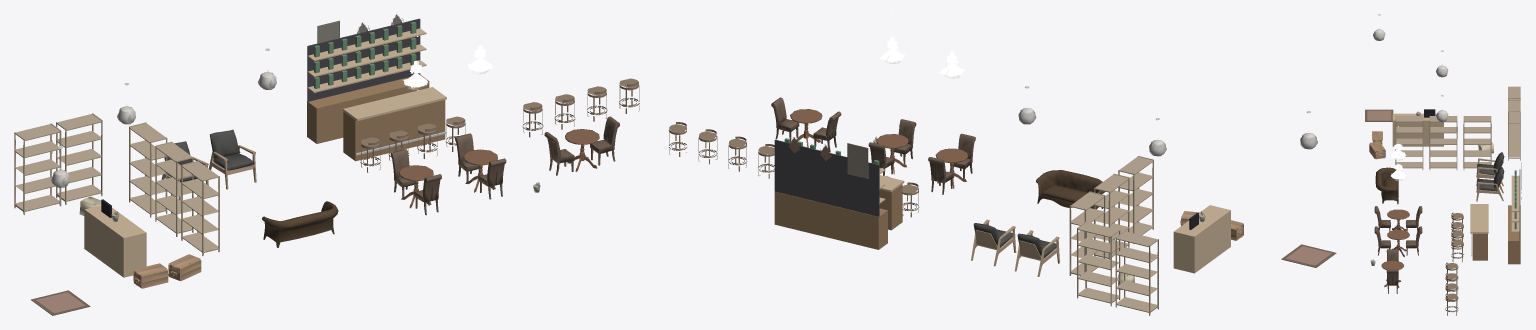
The model's file is fine-s0.glb.
3 views of the same model, side by side, from view 1: azimuth 30°, elevation 25°; view 2: azimuth 150°, elevation 25°; view 3: azimuth 270°, elevation 25° (orthographic). The views are drawn at different scales.
Parts seen in each view (by area): view 1: back-bar.000, bar-counter.000, shop-counter.000, shelving.000, shelving.001, shelving.004, shelving.002, shelving.003, sofa.000, office-chair-real.001, soft-s0, crate.000 (+10 smaller); view 2: back-bar.000, shop-counter.000, shelving.000, shelving.001, shelving.004, sofa.000, shelving.003, shelving.002, office-chair-real.000, office-chair-real.001, bar-counter.000, soft-s0 (+9 smaller); view 3: back-bar.000, shelving.003, shop-counter.000, bar-counter.000, shelving.002, shelving.004, shelving.001, sofa.000, office-chair-real.001, office-chair-real.000, soft-s0, cafe-table.001 (+21 smaller).
Part boxes in pixels (x1,y1,x2,y2): back-bar.000: (307, 18, 429, 143); bar-counter.000: (343, 87, 446, 161); shop-counter.000: (84, 199, 146, 277); shelving.000: (14, 123, 61, 215); shelving.001: (56, 113, 102, 204); shelving.004: (181, 160, 219, 255); shelving.002: (129, 122, 167, 217); shelving.003: (155, 141, 193, 236); sofa.000: (262, 201, 338, 247); office-chair-real.001: (209, 129, 256, 189); soft-s0: (31, 290, 90, 315); crate.000: (133, 263, 168, 288); back-bar.000: (774, 138, 887, 249); shop-counter.000: (1173, 205, 1230, 273); shelving.000: (1115, 231, 1158, 315); shelving.001: (1077, 221, 1120, 306); shelving.004: (1118, 156, 1153, 243); sofa.000: (1036, 170, 1105, 209); shelving.003: (1094, 173, 1129, 259); shelving.002: (1069, 191, 1105, 275); office-chair-real.000: (1014, 230, 1059, 276); office-chair-real.001: (971, 219, 1016, 266); bar-counter.000: (879, 175, 904, 230); soft-s0: (1281, 244, 1336, 267); back-bar.000: (1508, 169, 1520, 264); shelving.003: (1429, 116, 1457, 169); shop-counter.000: (1392, 109, 1443, 146); bar-counter.000: (1470, 204, 1488, 260); shelving.002: (1463, 116, 1491, 169); shelving.004: (1395, 116, 1423, 169); shelving.001: (1508, 99, 1520, 160); sofa.000: (1375, 167, 1398, 204); office-chair-real.001: (1476, 167, 1504, 201); office-chair-real.000: (1476, 152, 1504, 186); soft-s0: (1365, 109, 1393, 121); cafe-table.001: (1387, 230, 1409, 256).
Bounding box in the file's own units: 17.25 × 4.19 × 5.53.
